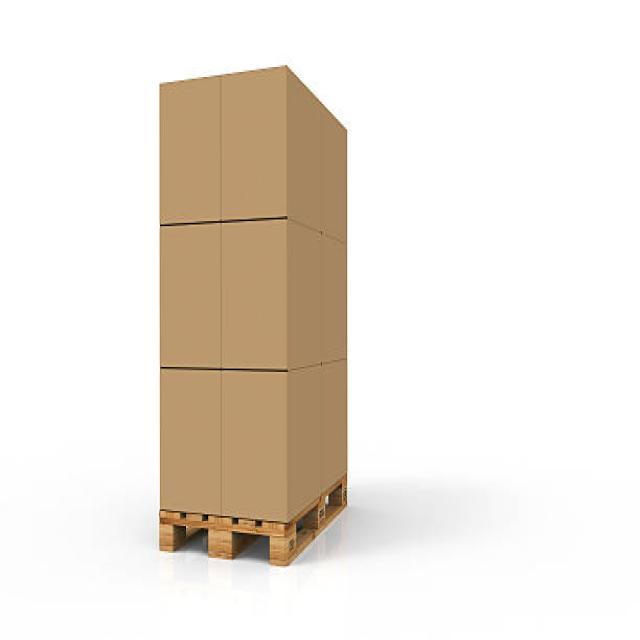Wooden-Pallets: (154, 475, 353, 574)
